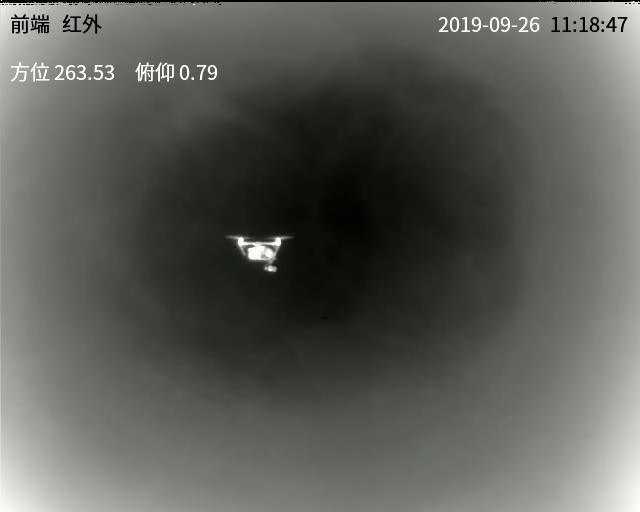uav: (222, 230, 294, 280)
